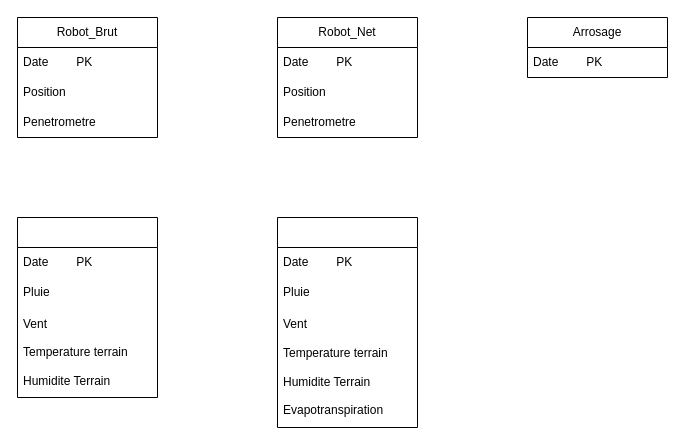
The diagram is 685 pixels wide and 445 high, and some of its shapes have lost their labels. Each missing label, with the box of its shape:
Meteo_Brut: (16, 216, 158, 398)
Meteo_Net: (276, 216, 418, 428)
